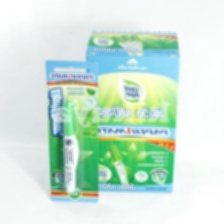book: (81, 25, 183, 196), (43, 58, 101, 205)
correction_fluid: (59, 98, 81, 195)
